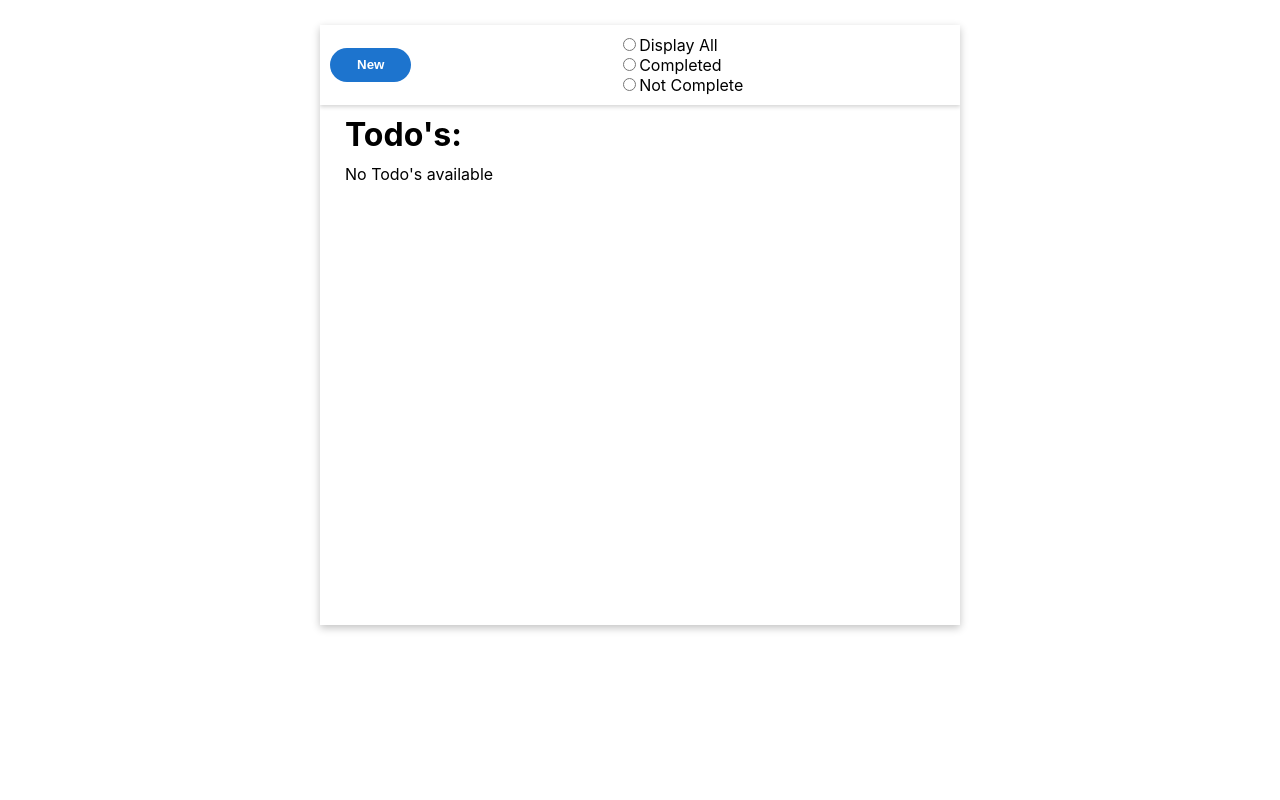
Given that the new form loads correctly › does not add a new todo with an invalid date
The image size is (1280, 800).
Click the button "New": point(371, 65) left=330, top=48, right=411, bottom=81
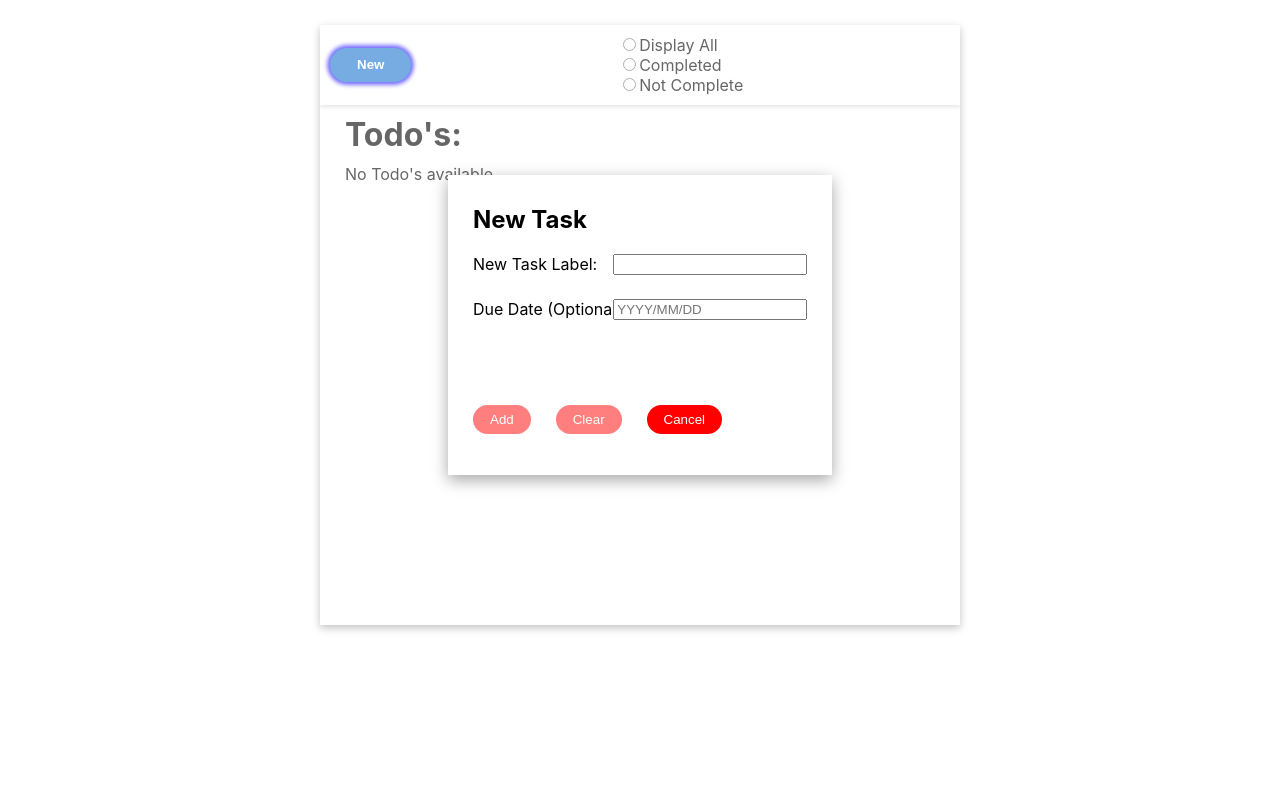
In the field named "task": point(710, 265) left=613, top=254, right=807, bottom=275, type "Sample task #1"
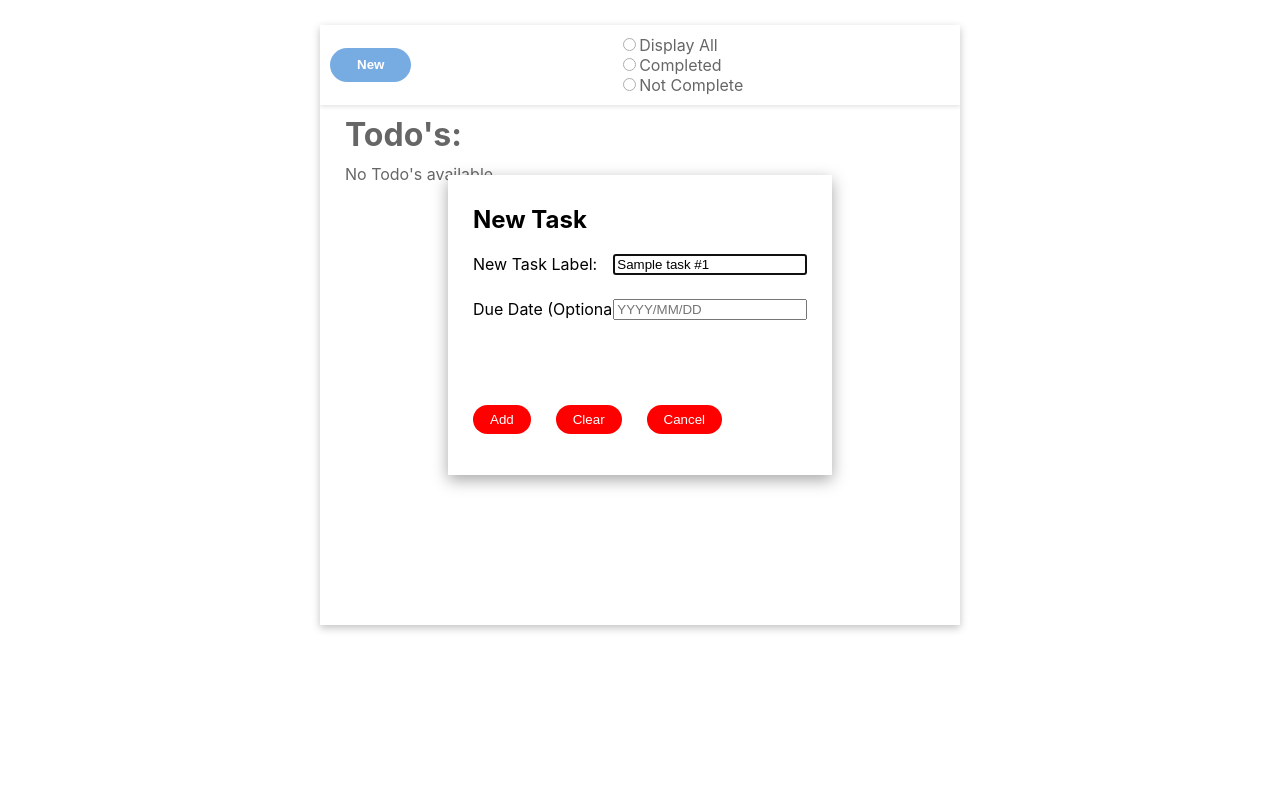
In the field named "dueDate": point(710, 310) left=613, top=299, right=807, bottom=320, type "xxxxxx"
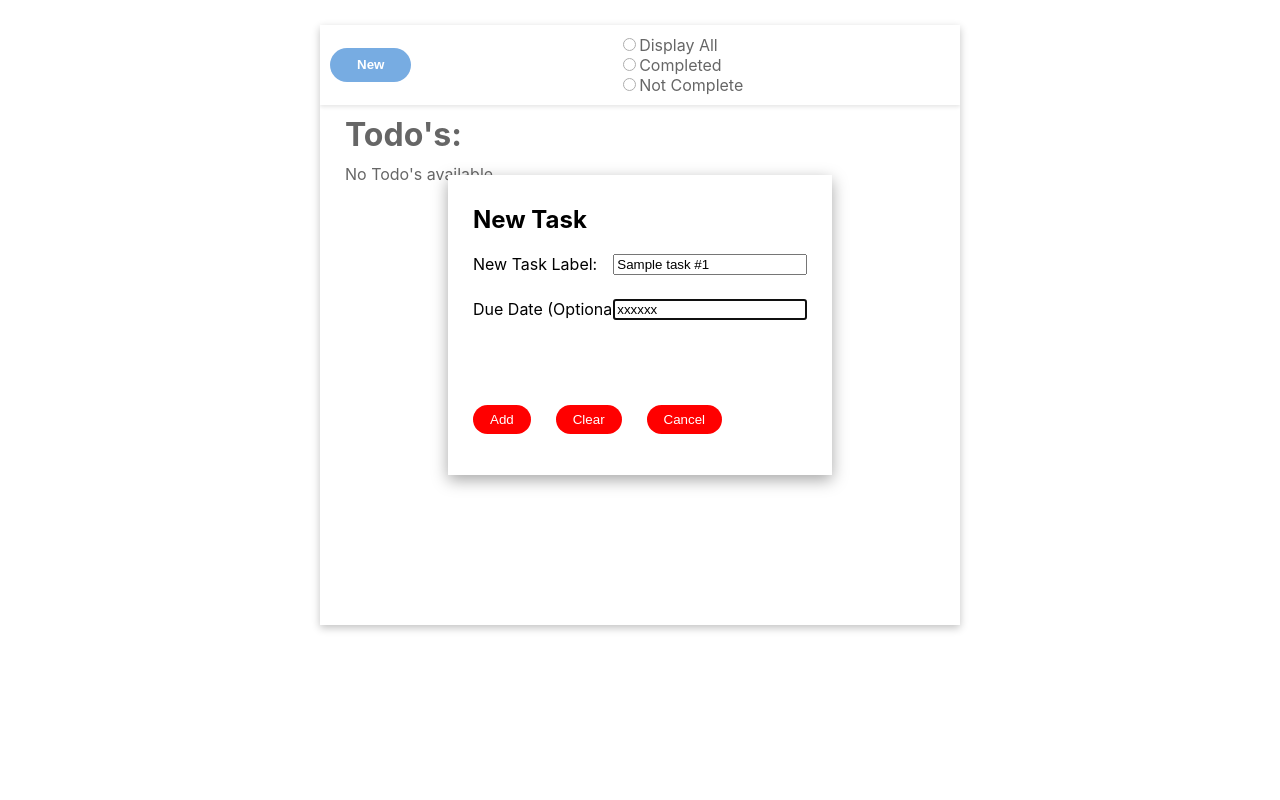
Click the button "Add": point(502, 420) left=473, top=405, right=531, bottom=434
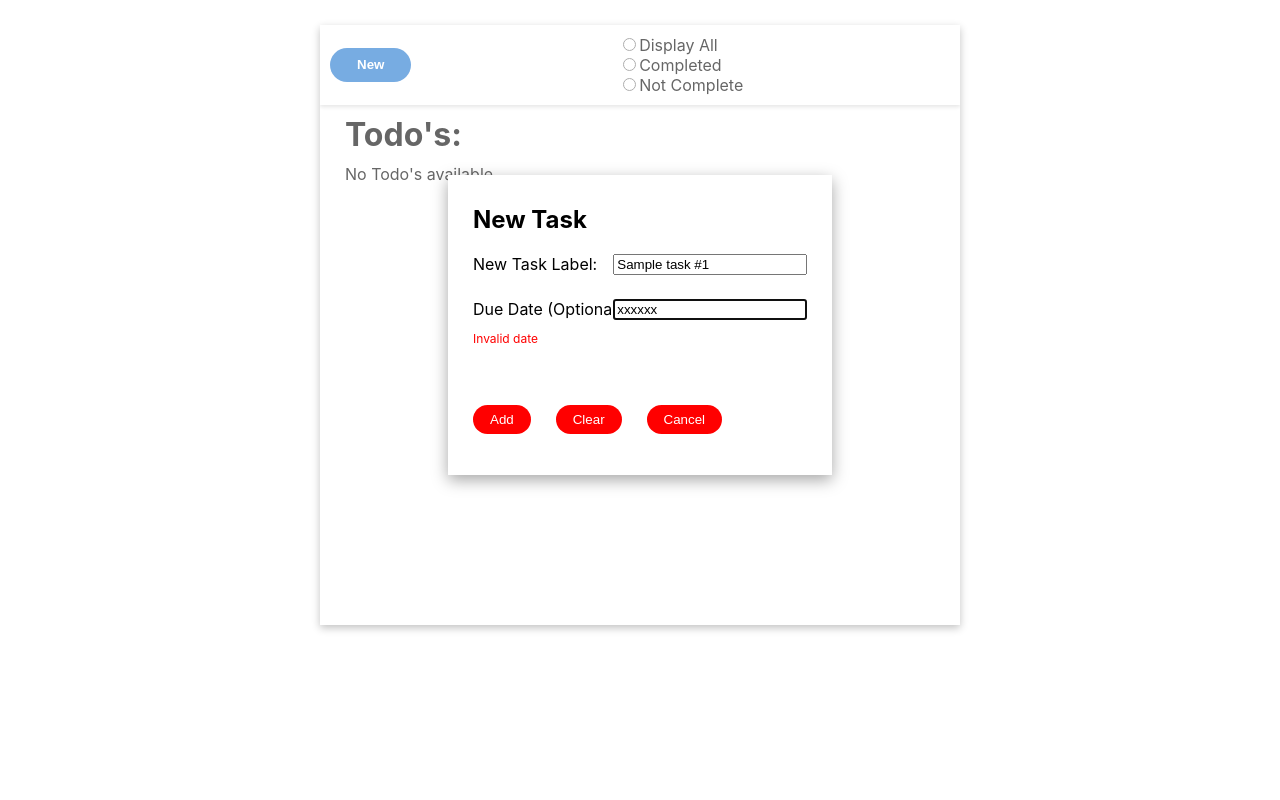
Expected: the text "Invalid date" is shown, left=473, top=331, right=538, bottom=346
